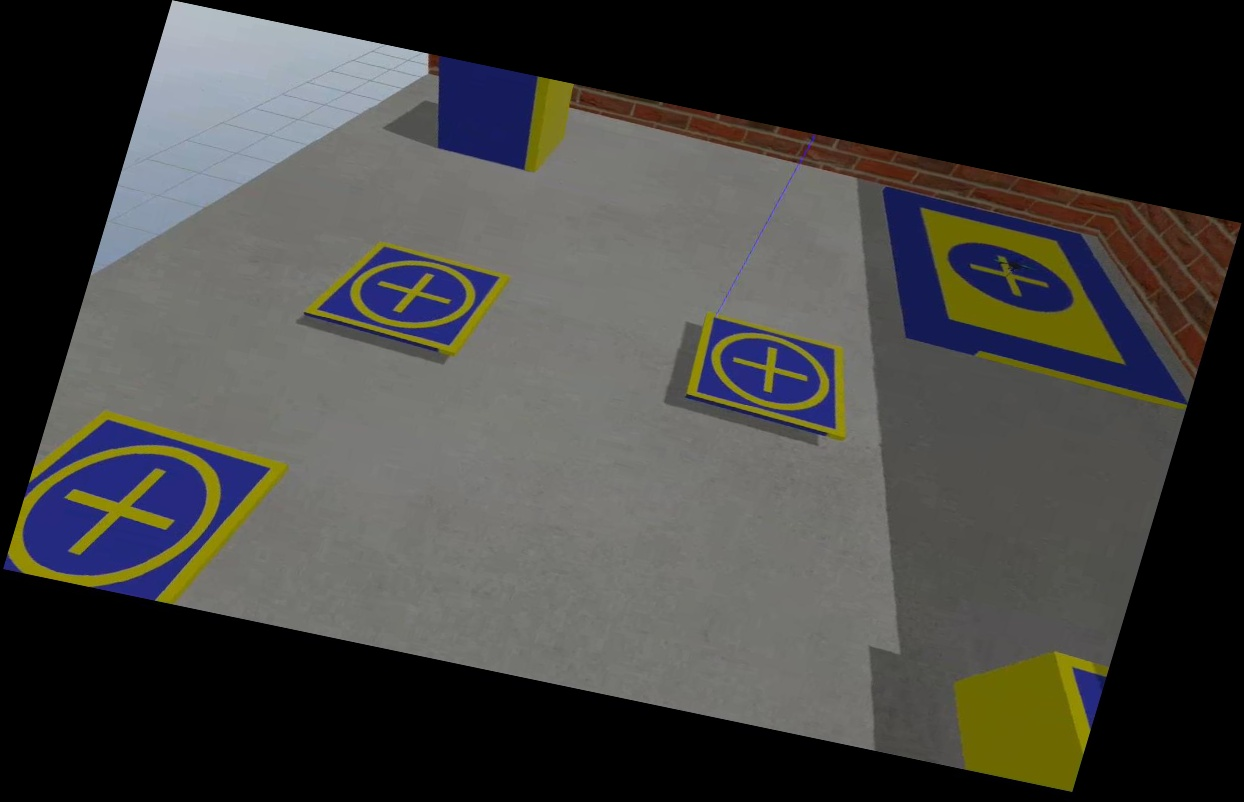large_base: (839, 183, 1227, 412)
small_base: (3, 396, 295, 618), (295, 220, 516, 367), (675, 308, 876, 445)
